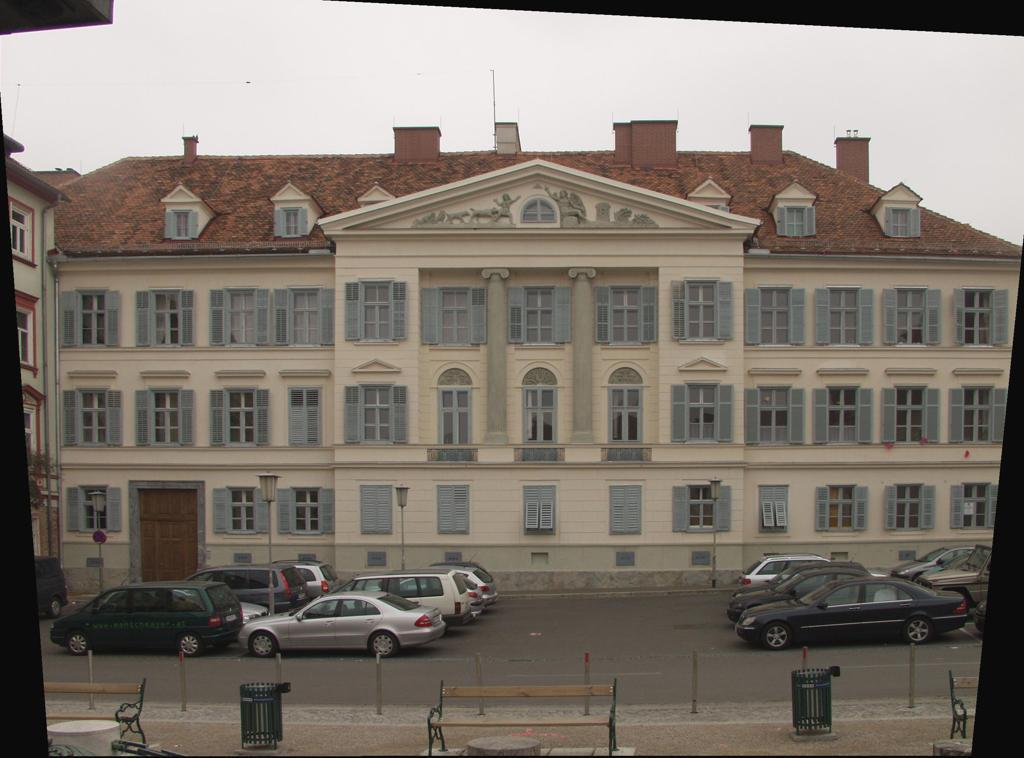window: (522, 384, 558, 445), (608, 386, 644, 445), (437, 389, 473, 445), (362, 281, 394, 343), (685, 282, 717, 342), (150, 290, 182, 348), (524, 287, 556, 345), (225, 390, 257, 448), (687, 385, 719, 443), (76, 291, 108, 348), (224, 289, 256, 346), (439, 288, 471, 345), (609, 287, 641, 344), (758, 289, 790, 346), (828, 290, 860, 347), (76, 389, 108, 446), (148, 389, 180, 446), (290, 389, 322, 446), (360, 387, 392, 444), (758, 388, 790, 445), (893, 388, 925, 445), (961, 387, 993, 444), (289, 289, 320, 346), (895, 289, 926, 346), (963, 290, 994, 347), (826, 387, 857, 444), (894, 485, 923, 531), (962, 483, 991, 529), (612, 488, 641, 534), (526, 487, 555, 533), (439, 488, 468, 534), (363, 488, 392, 534), (291, 490, 320, 536), (78, 487, 107, 533), (828, 485, 856, 531), (760, 486, 788, 532), (689, 486, 717, 532), (227, 489, 255, 535), (520, 198, 557, 223), (281, 207, 302, 238), (786, 206, 807, 237), (172, 210, 192, 241), (892, 207, 912, 238)
